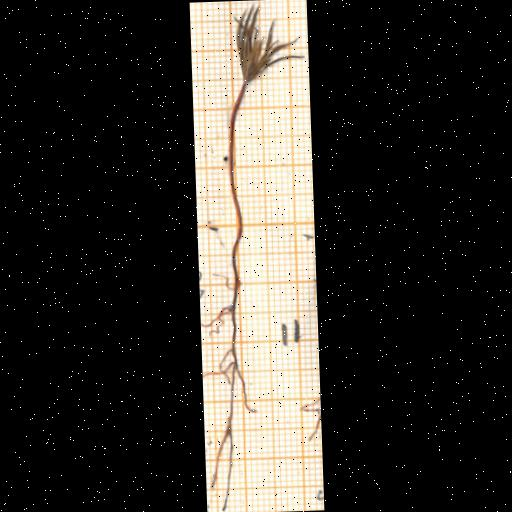flowerPinus: (233, 3, 302, 83)
rootPinus: (203, 232, 256, 512)
stemPinus: (227, 81, 245, 235)
